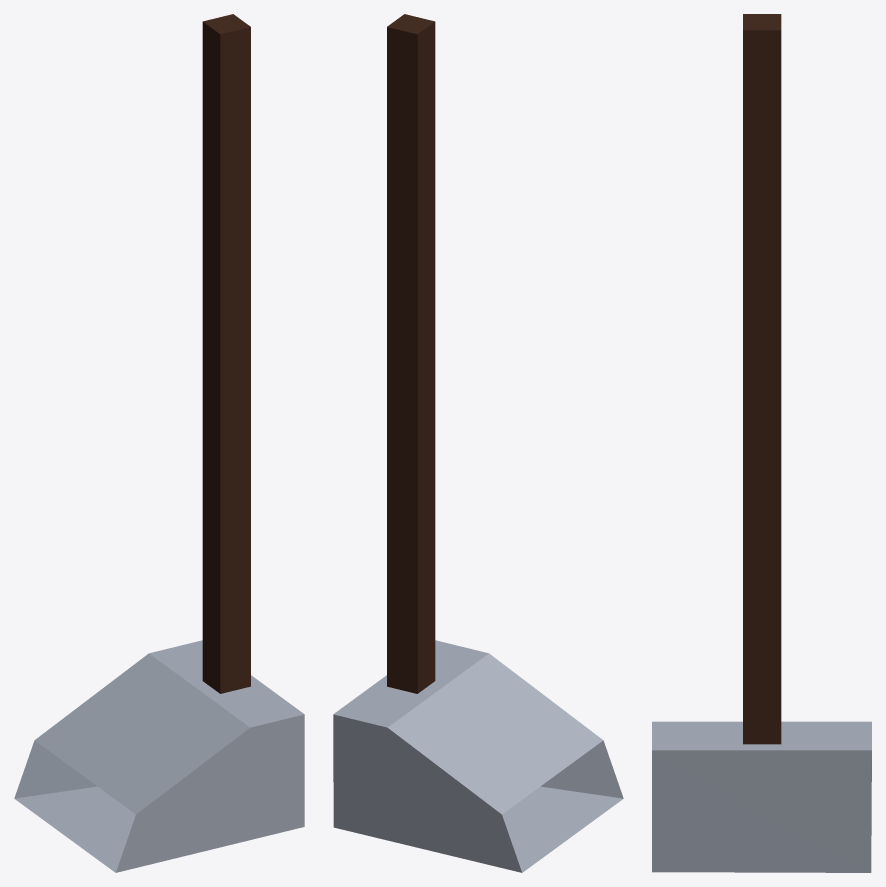
Rendered from boji.fbx.
The picture shows the model from 3 angles, left to right: view 1: azimuth 30°, elevation 25°; view 2: azimuth 150°, elevation 25°; view 3: azimuth 270°, elevation 25°; orthographic projection. The views are drawn at different scales.
Visible parts, largest first — view 1: door1:polySurface10; view 2: door1:polySurface10; view 3: door1:polySurface10.
Part boxes in pixels (left/top/right/bottom): door1:polySurface10: left=14, top=14, right=304, bottom=872; door1:polySurface10: left=333, top=14, right=623, bottom=872; door1:polySurface10: left=652, top=14, right=871, bottom=872.
Size of the model in its own units: 19.45 by 76 by 18.09.
